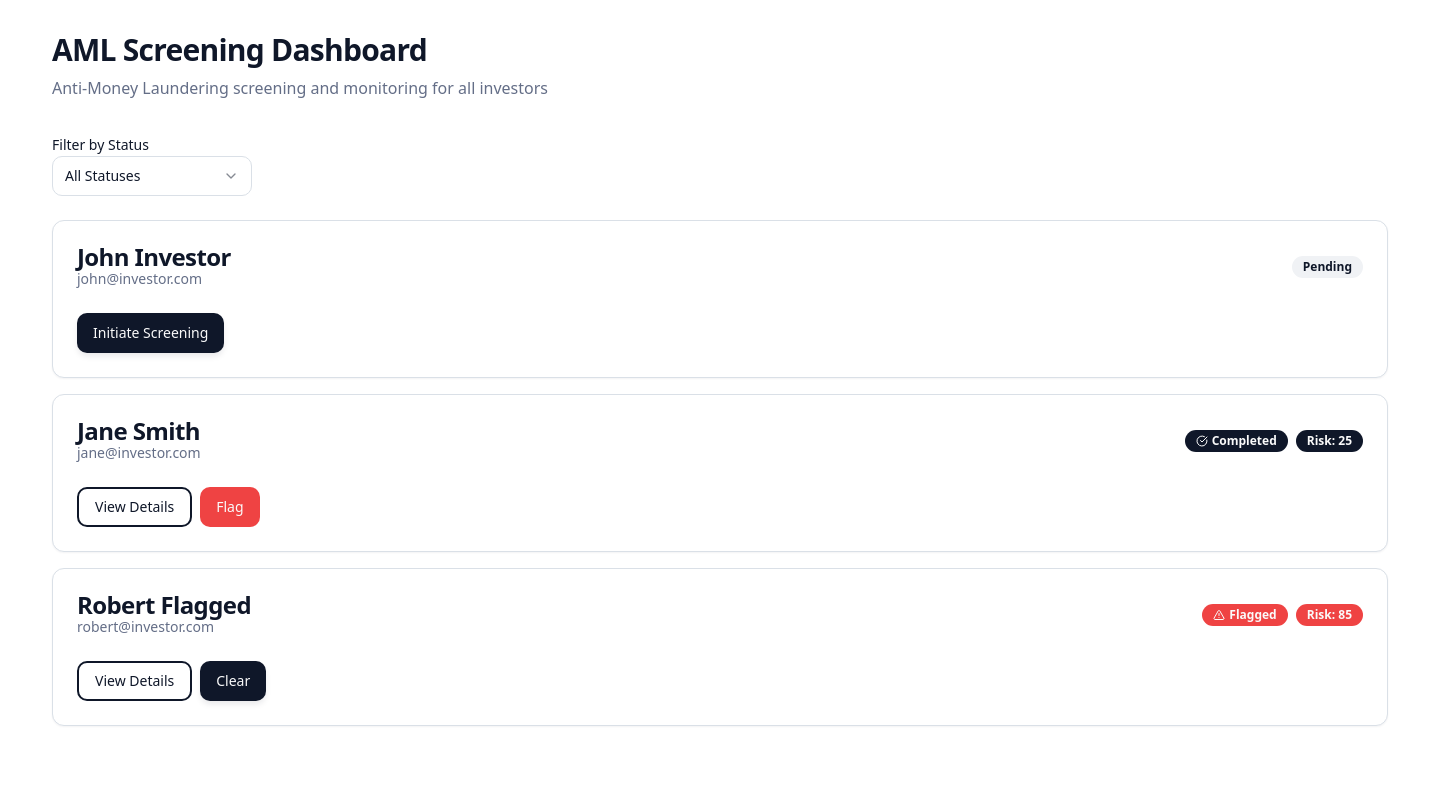
Test: US-COMPLIANCE-002: AML Screening › Review Screening Results › should display screening results modal when viewing details
Expected: the text "Robert Flagged" is shown, x1=77 y1=593 x2=251 y2=617
Get the last view button which should be for the flagged screening
Click the button "View Details" below "robert@investor.com": (135, 681) x1=77 y1=661 x2=192 y2=701
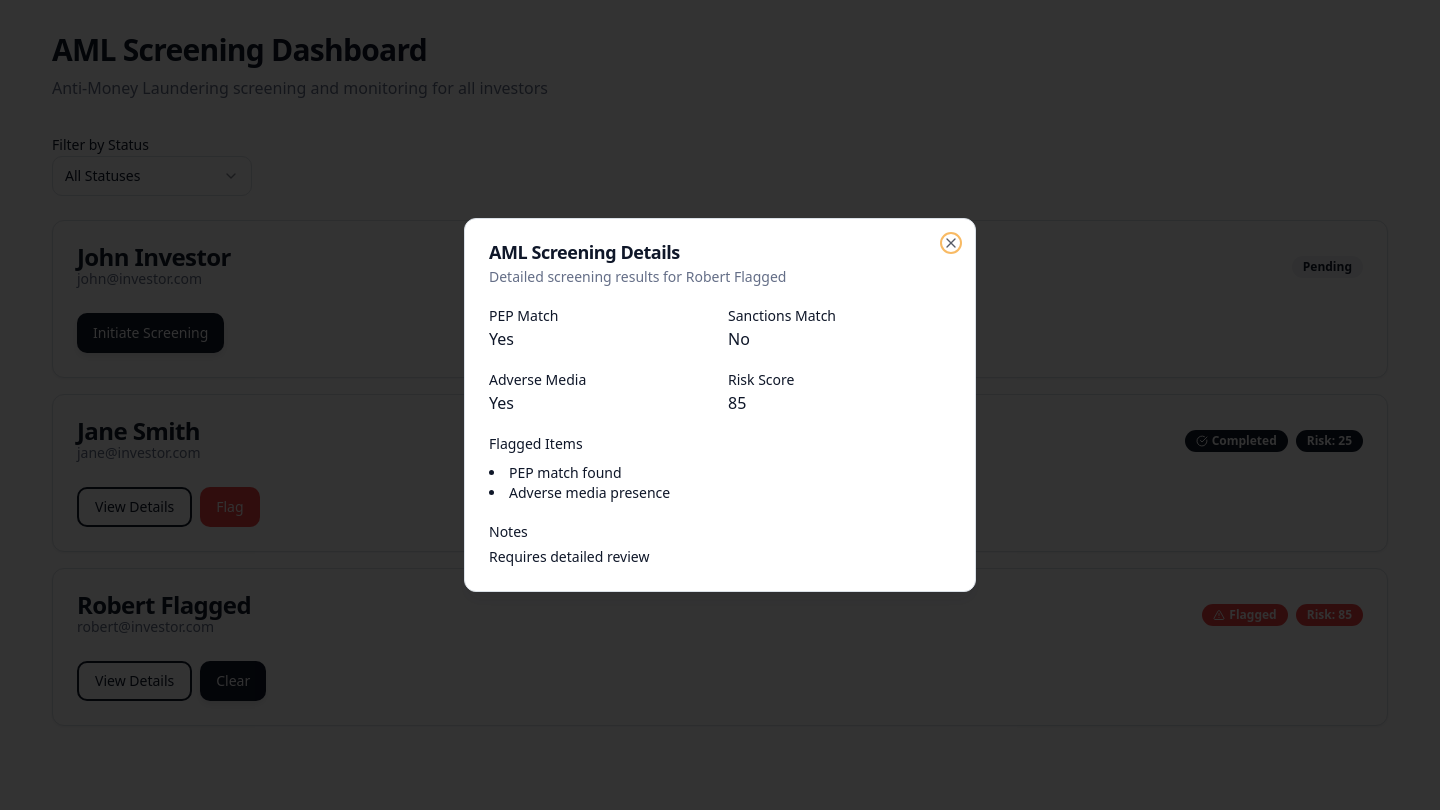
Expected: the heading "AML Screening Details" is shown, x1=489 y1=240 x2=680 y2=264
